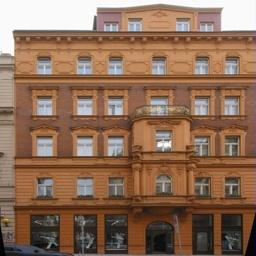building: (13, 2, 256, 245)
